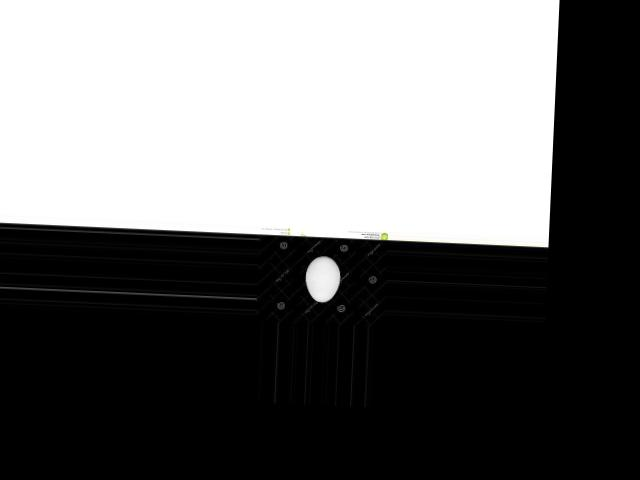egg: (303, 255, 340, 302)
